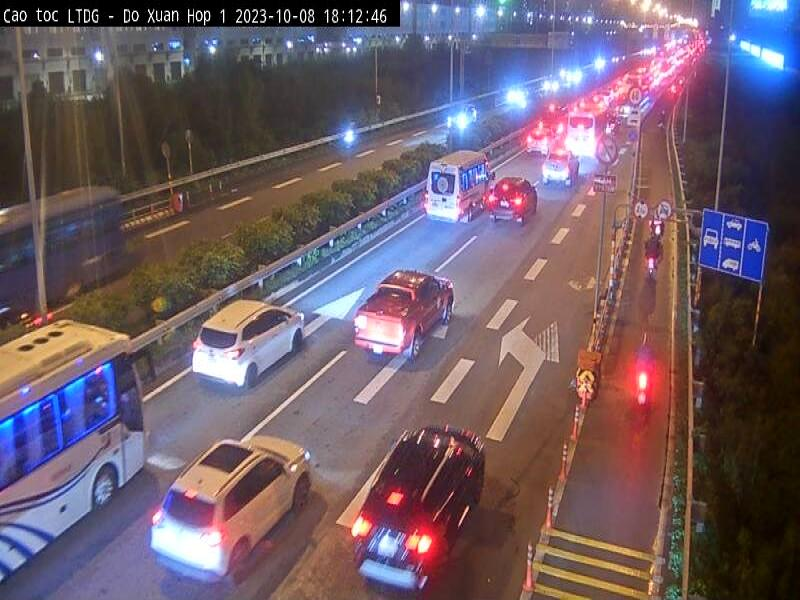bus: (1, 319, 157, 584), (0, 186, 121, 318), (570, 105, 610, 155)
car: (150, 434, 311, 588), (348, 421, 486, 599), (192, 296, 306, 394), (353, 265, 456, 361), (425, 147, 501, 226), (482, 173, 538, 228), (544, 146, 580, 188), (528, 118, 557, 156)
motorcycle: (638, 373, 652, 426), (647, 250, 656, 280)
